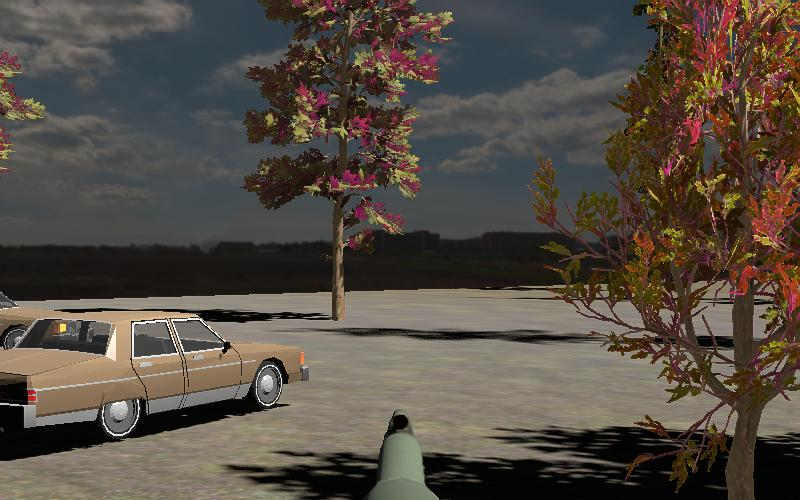car: (0, 311, 312, 445), (0, 285, 64, 360)
